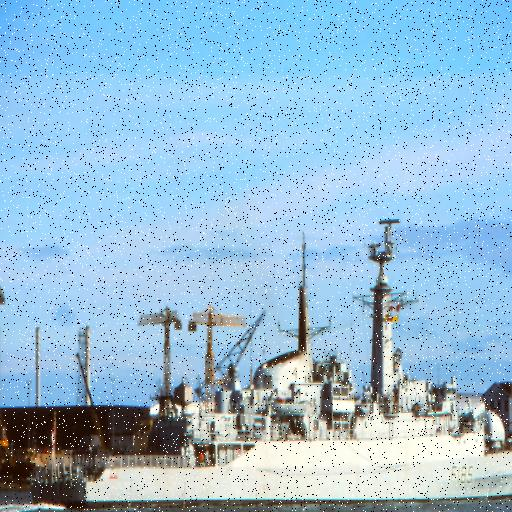Fragata: (25, 211, 512, 512)
